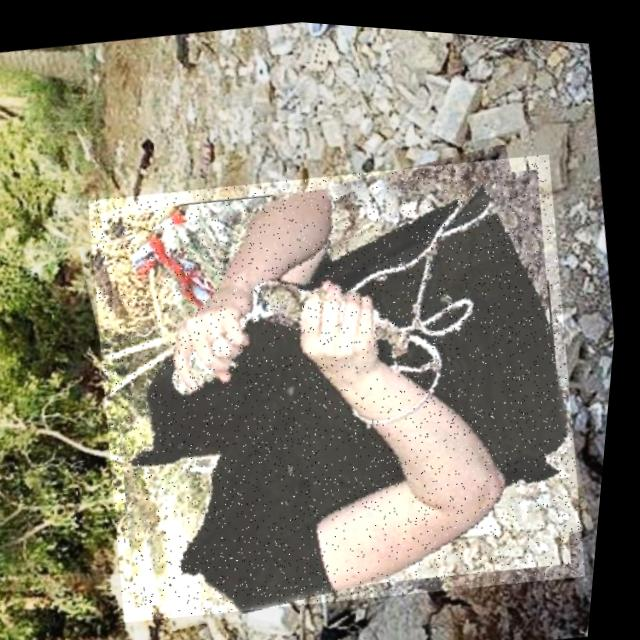Person in Rubble: (62, 117, 624, 640)
